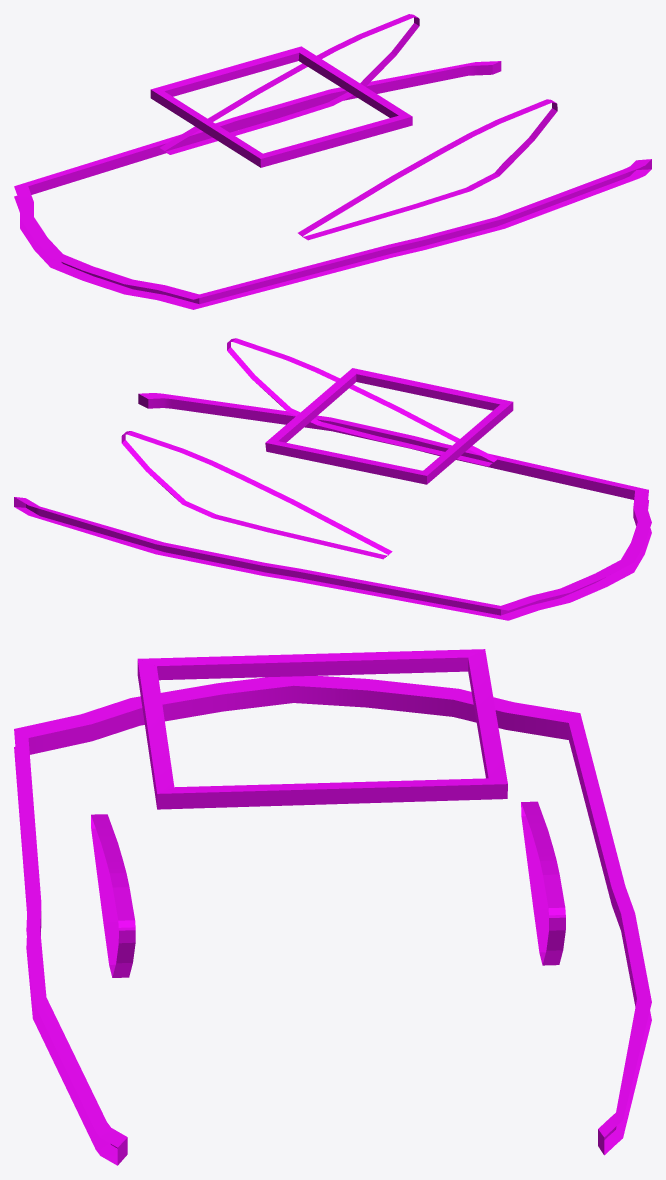
Rendered from MeshBaker (4)-mesh-mesh.fbx.
The picture shows the model from 3 angles, top to bottom: view 1: azimuth 30°, elevation 25°; view 2: azimuth 150°, elevation 25°; view 3: azimuth 270°, elevation 25°; orthographic projection. The views are drawn at different scales.
Parts seen in each view (by area): view 1: MeshBaker__4__mesh_mesh; view 2: MeshBaker__4__mesh_mesh; view 3: MeshBaker__4__mesh_mesh.
Boxes of the visible parts, x1,y1,x2,y2 form: MeshBaker__4__mesh_mesh: [14, 14, 651, 309]; MeshBaker__4__mesh_mesh: [14, 338, 651, 620]; MeshBaker__4__mesh_mesh: [14, 649, 651, 1165].
Size of the model in its own units: 2706 by 470 by 1541.
